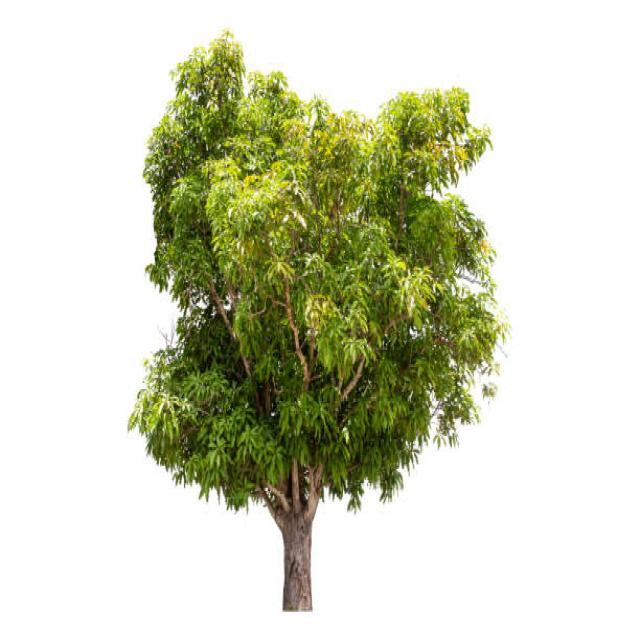Mango-Tree: (126, 63, 493, 598)
